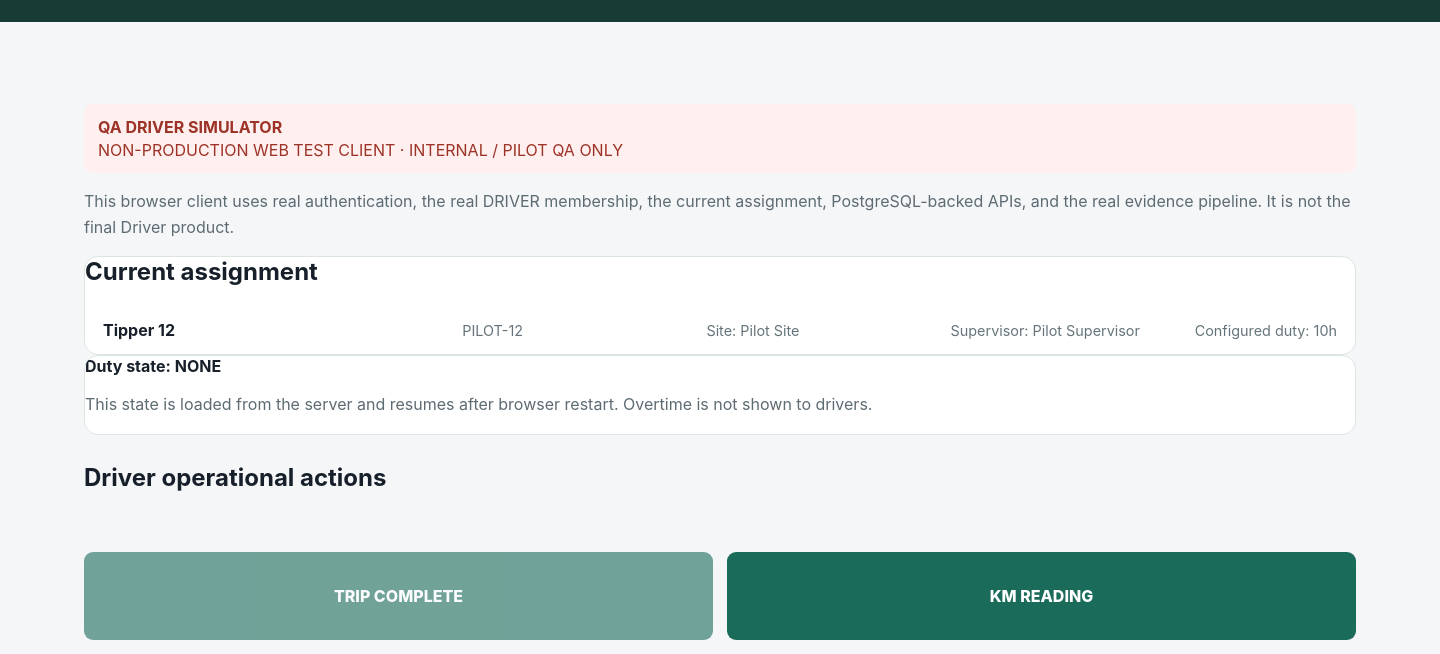
Test: Driver QA workspace › keeps four buttons visible before duty with only KM and emergency enabled
Expected: the text "Site: Pilot Site" is shown, [706,322,800,339]
Expected: the text "Supervisor: Pilot Supervisor" is shown, [951,322,1140,339]
Click the button "KM READING": (1042, 596) [727,552,1356,640]
(page scrolled)
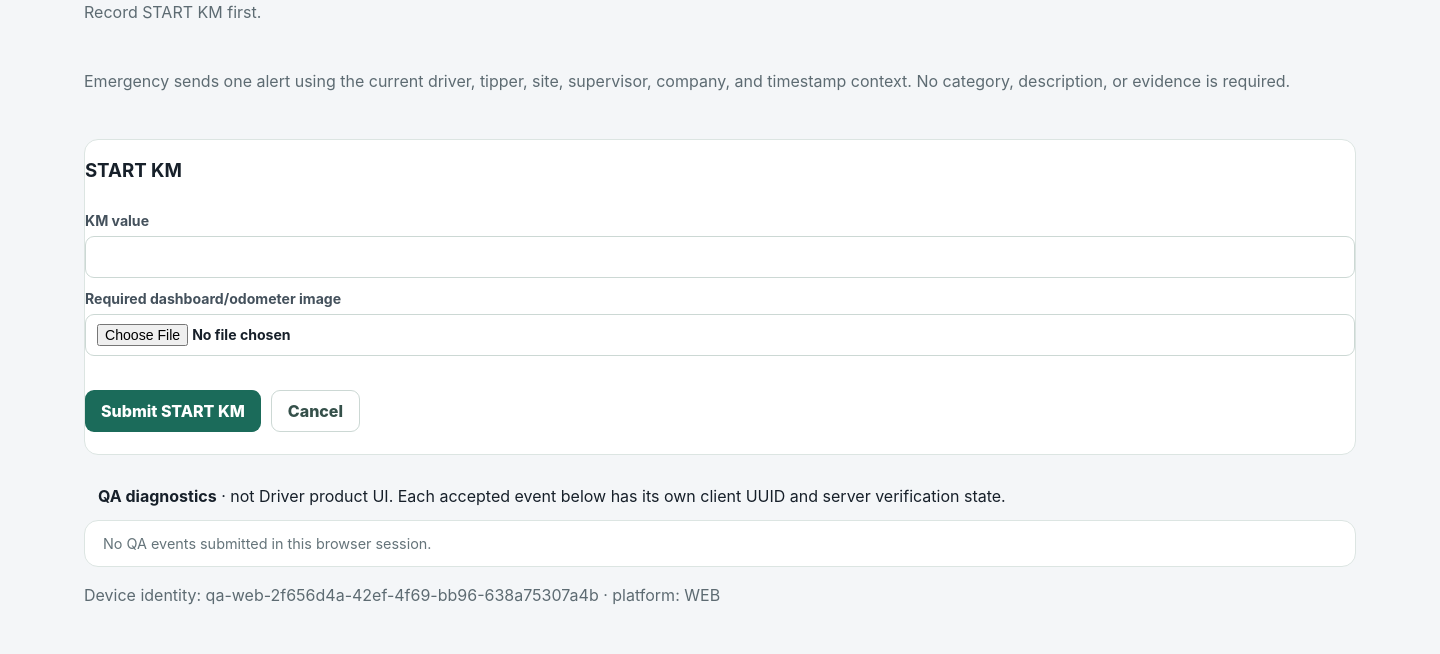
Now the heading "START KM" is shown, box [85,159,182,182]
